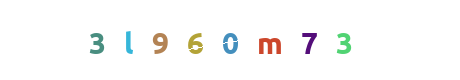0: (190, 0, 270, 80)
3: (69, 0, 149, 80), (304, 0, 384, 80)
6: (162, 0, 242, 80)
7: (269, 0, 349, 80)
9: (155, 0, 235, 80)
L: (144, 0, 224, 80)
M: (229, 0, 309, 80)
